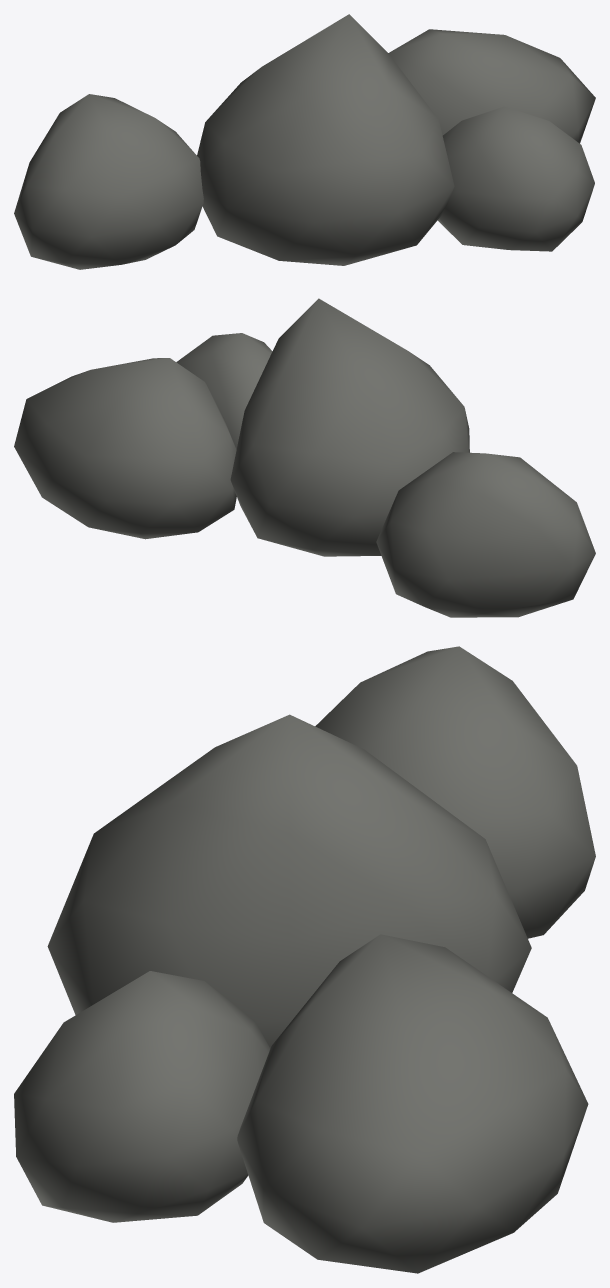
The model's file is Stone_01.fbx.
3 renders of one model, top to bottom at view 1: azimuth 30°, elevation 25°; view 2: azimuth 150°, elevation 25°; view 3: azimuth 270°, elevation 25°, orthographic. The views are drawn at different scales.
Visible parts, largest first — view 1: Stone_01; view 2: Stone_01; view 3: Stone_01.
Boxes of the visible parts, x1,y1,x2,y2 form: Stone_01: (14, 14, 595, 269); Stone_01: (14, 298, 595, 617); Stone_01: (14, 646, 595, 1273).
Bounding box in the file's own units: 334 × 172 × 125.
